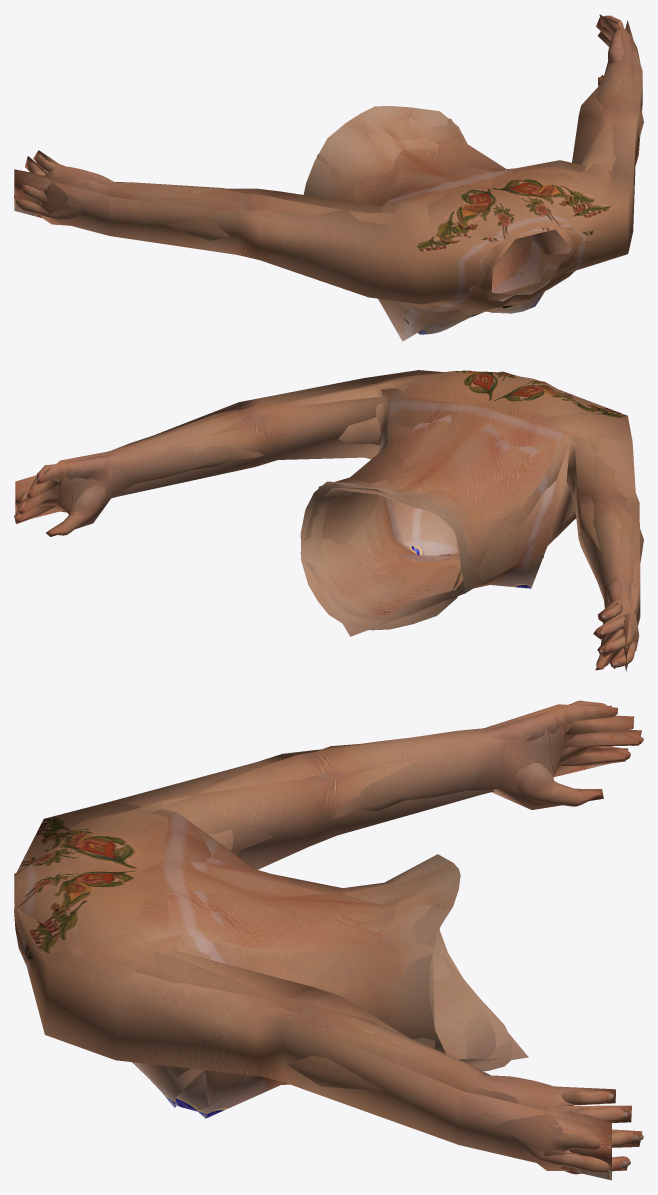
File: uppr_000_r.obj
3 renders of one model, top to bottom at view 1: azimuth 30°, elevation 25°; view 2: azimuth 150°, elevation 25°; view 3: azimuth 270°, elevation 25°, orthographic. The views are drawn at different scales.
Visible parts, largest first — view 1: uppr_000_r_low_1, uppr_000_r_med_1, uppr_000_r_high_1, uppr_000_r_high_2; view 2: uppr_000_r_low_1, uppr_000_r_med_1, uppr_000_r_high_1; view 3: uppr_000_r_low_1, uppr_000_r_med_1, uppr_000_r_high_1.
Boxes of the visible parts, left/top/right/bottom form: uppr_000_r_low_1: left=14, top=20, right=642, bottom=341; uppr_000_r_med_1: left=25, top=14, right=643, bottom=315; uppr_000_r_high_1: left=14, top=15, right=633, bottom=334; uppr_000_r_high_2: left=16, top=191, right=69, bottom=220; uppr_000_r_low_1: left=15, top=370, right=640, bottom=671; uppr_000_r_med_1: left=14, top=371, right=643, bottom=670; uppr_000_r_high_1: left=15, top=370, right=636, bottom=667; uppr_000_r_low_1: left=14, top=705, right=611, bottom=1180; uppr_000_r_med_1: left=14, top=704, right=642, bottom=1170; uppr_000_r_high_1: left=14, top=700, right=643, bottom=1174.
Bounding box in the file's own units: 1.09 × 0.2724 × 0.6925.
